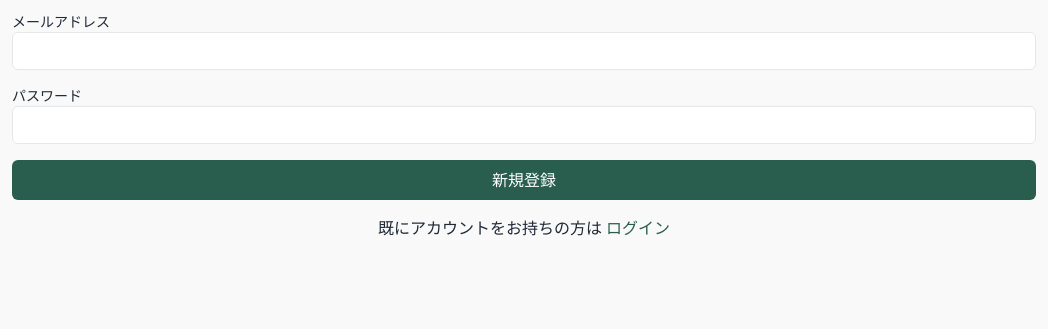
AuthForm › サインアップモード › サインアップ成功時に確認メッセージが表示される
The width and height of the screenshot is (1048, 329).
Type "newuser@example.com" into the field labelled "メールアドレス" at (524, 51), box [12, 32, 1036, 70]
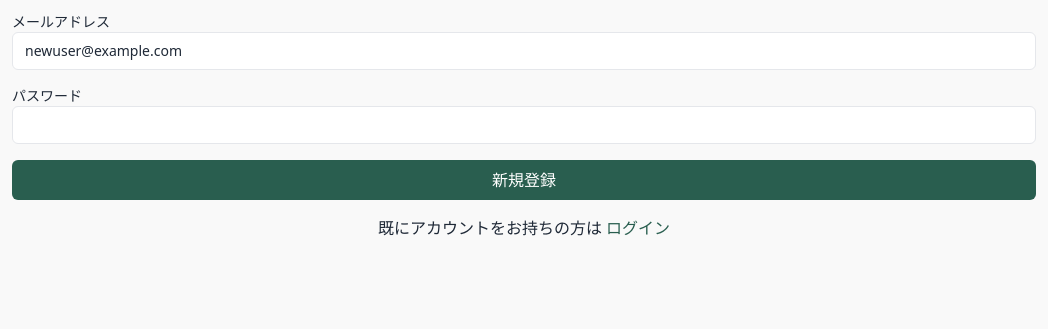
Type "password123" into the password field labelled "パスワード" at (524, 125), box [12, 106, 1036, 144]
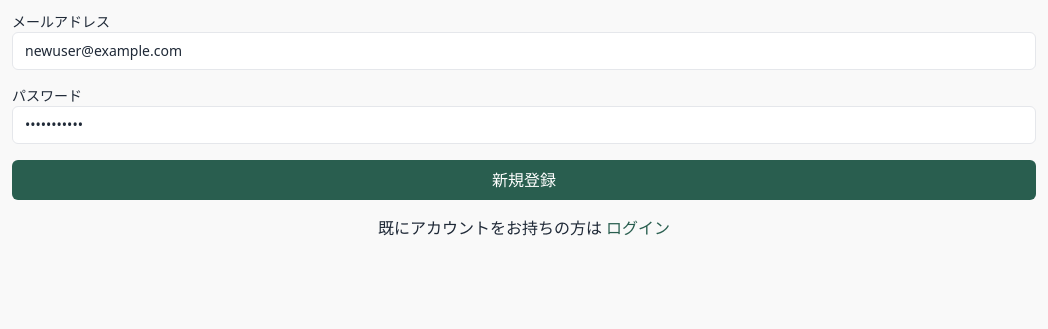
Click the button "新規登録" at (524, 180), box [12, 160, 1036, 200]
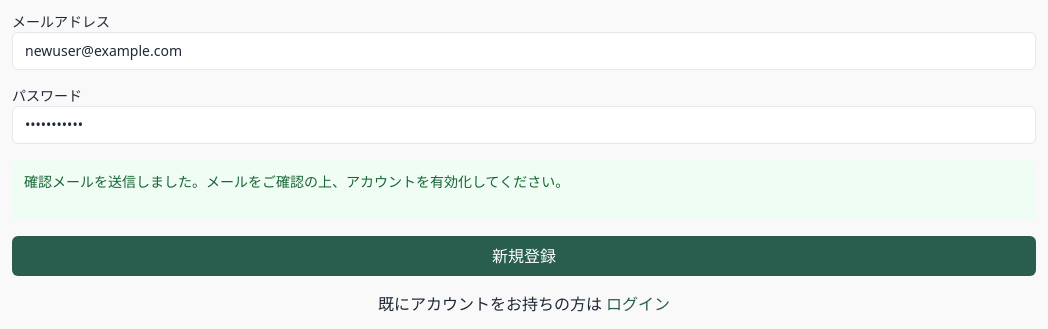
Now the text "確認メールを送信しました。メールをご確認の上、アカウントを有効化してください。" is shown, box [24, 172, 569, 191]
